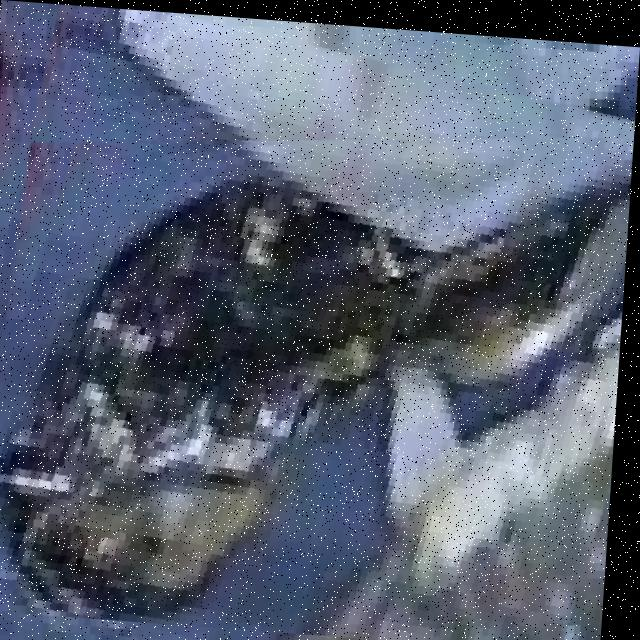litter: (0, 130, 635, 621)
